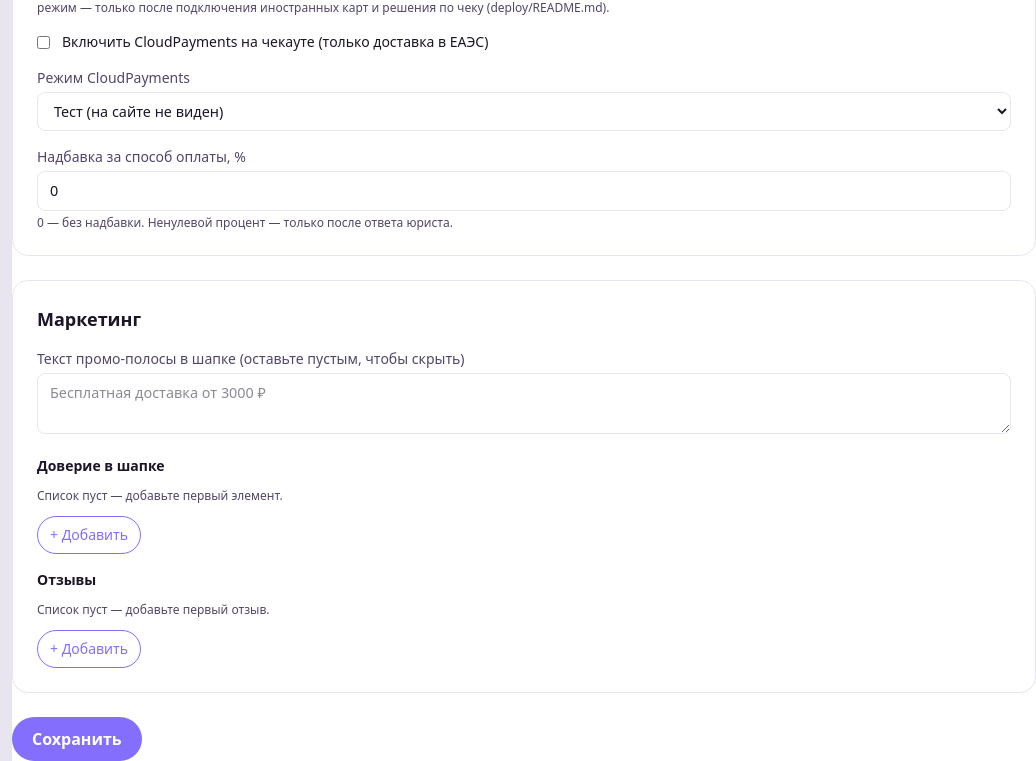
Test case: SettingsForm › shows "Сохранено ✓" after a successful save
(page scrolled)
Click the button "Сохранить".
click(77, 739)  # box [12,717,142,760]
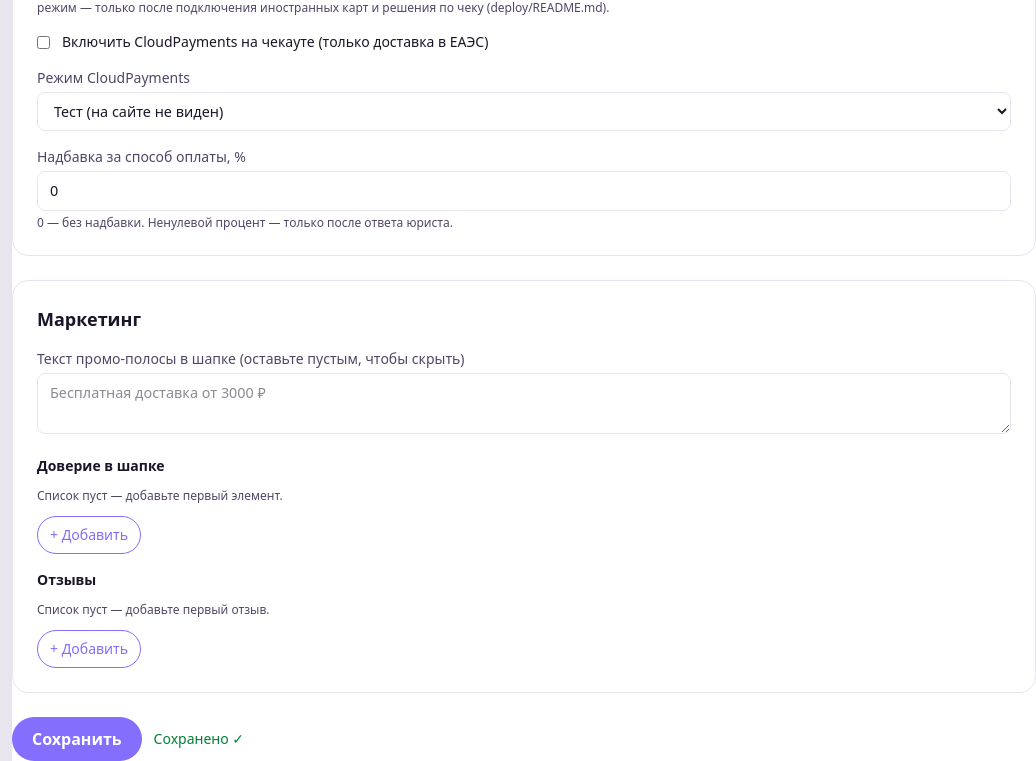
Now the message with test id "saved-indicator" shows "Сохранено", box [154,729,244,748]
